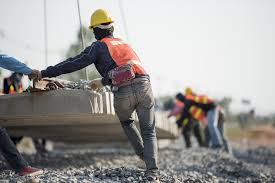helmet: (84, 11, 121, 30)
vest: (104, 37, 146, 75)
